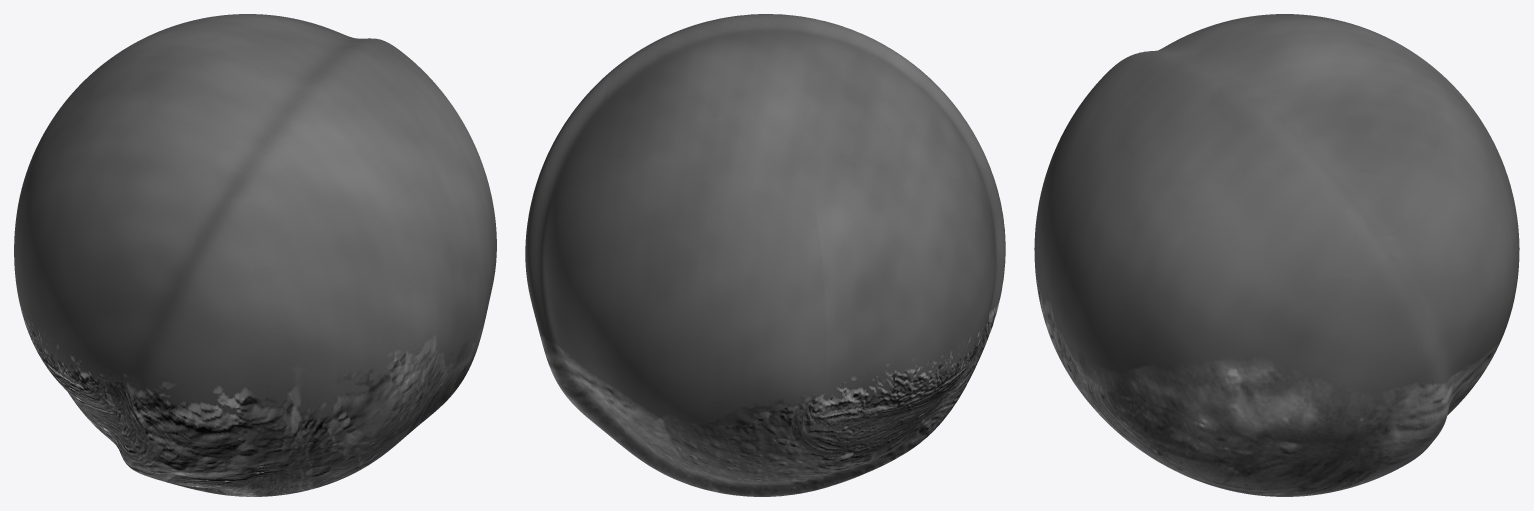
File: miranda.glb
3 renders of one model, left to right at view 1: azimuth 30°, elevation 25°; view 2: azimuth 150°, elevation 25°; view 3: azimuth 270°, elevation 25°, orthographic. The views are drawn at different scales.
Visible parts, largest first — view 1: miranda_globe; view 2: miranda_globe; view 3: miranda_globe.
Part boxes in pixels (left/top/right/bottom): miranda_globe: left=14, top=14, right=496, bottom=496; miranda_globe: left=525, top=14, right=1005, bottom=496; miranda_globe: left=1034, top=14, right=1519, bottom=496.
Size of the model in its own units: 2 by 2 by 2.
Materials: 1 (1 with a texture image).
